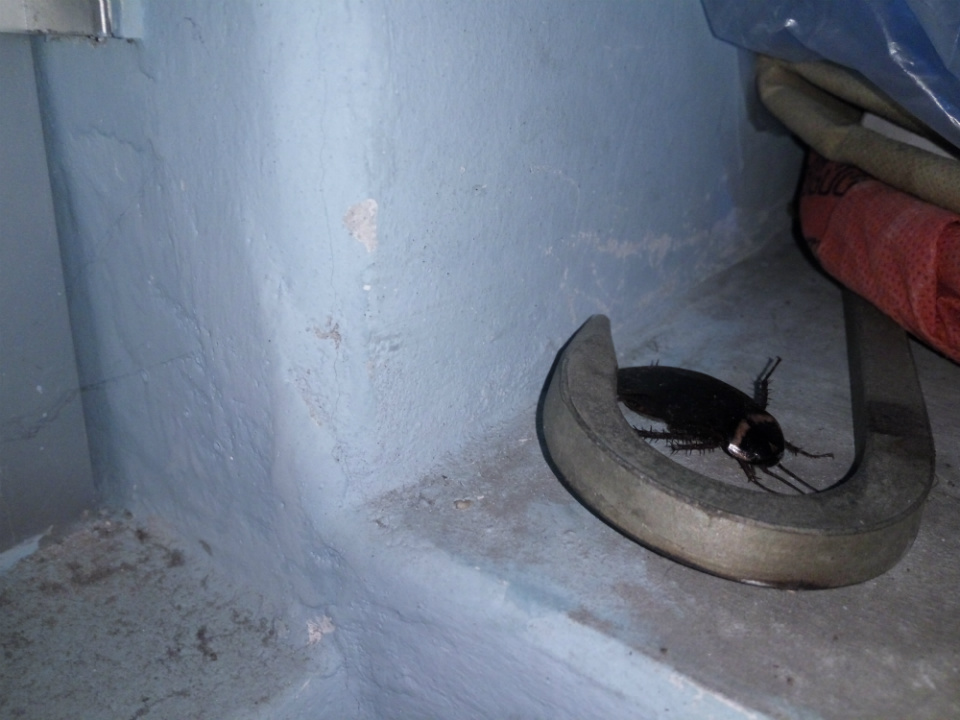cockroach: (531, 316, 858, 506)
